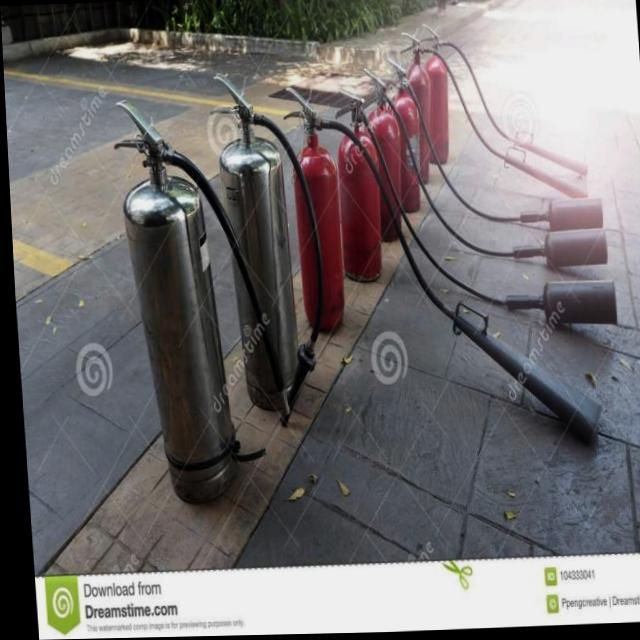FireExtinguisher: (278, 75, 605, 471), (102, 89, 292, 509), (327, 73, 616, 340), (353, 62, 607, 276), (201, 64, 331, 433), (381, 50, 603, 240), (395, 25, 594, 213), (406, 17, 591, 184)
